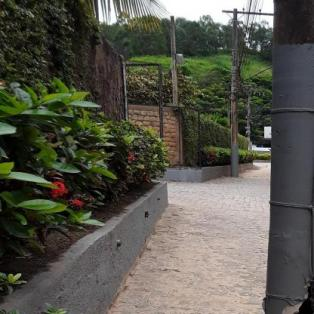Poste: (259, 2, 314, 313), (230, 8, 243, 178)
